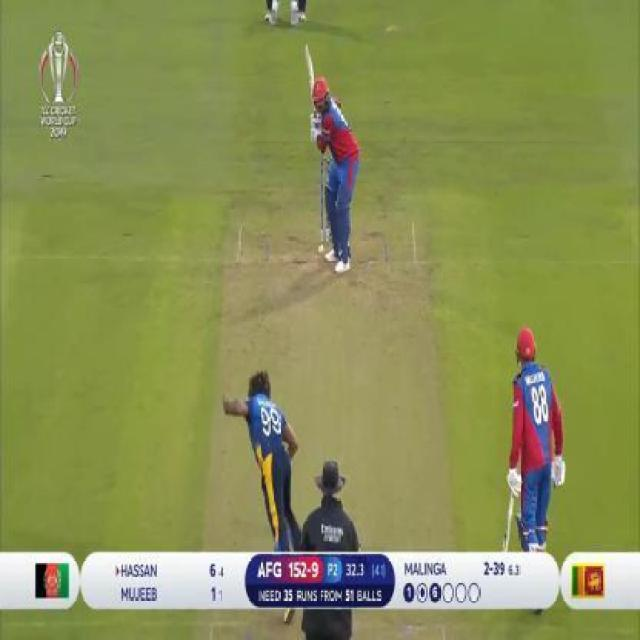Cricket ball: (316, 243, 327, 257)
